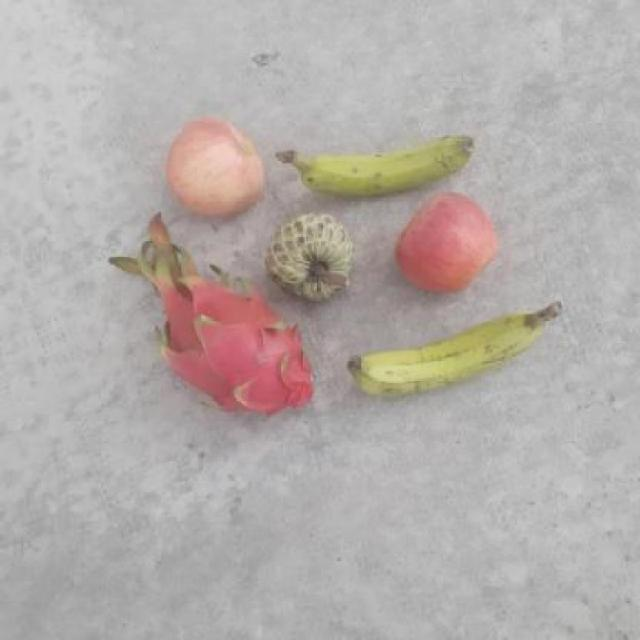apple: (157, 116, 272, 222), (398, 192, 500, 296)
banana: (348, 302, 535, 402), (290, 125, 478, 202)
dragon fruit: (158, 290, 318, 422)
sugar apple: (269, 214, 360, 301)
